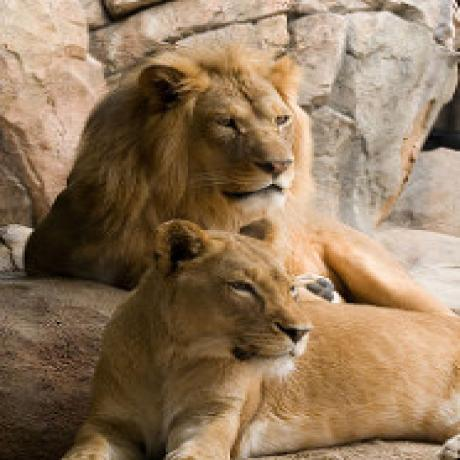Lion: (78, 214, 460, 460), (33, 26, 308, 274)
